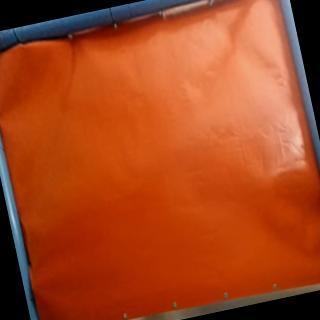Hit-hRxx: (29, 273, 58, 300)
